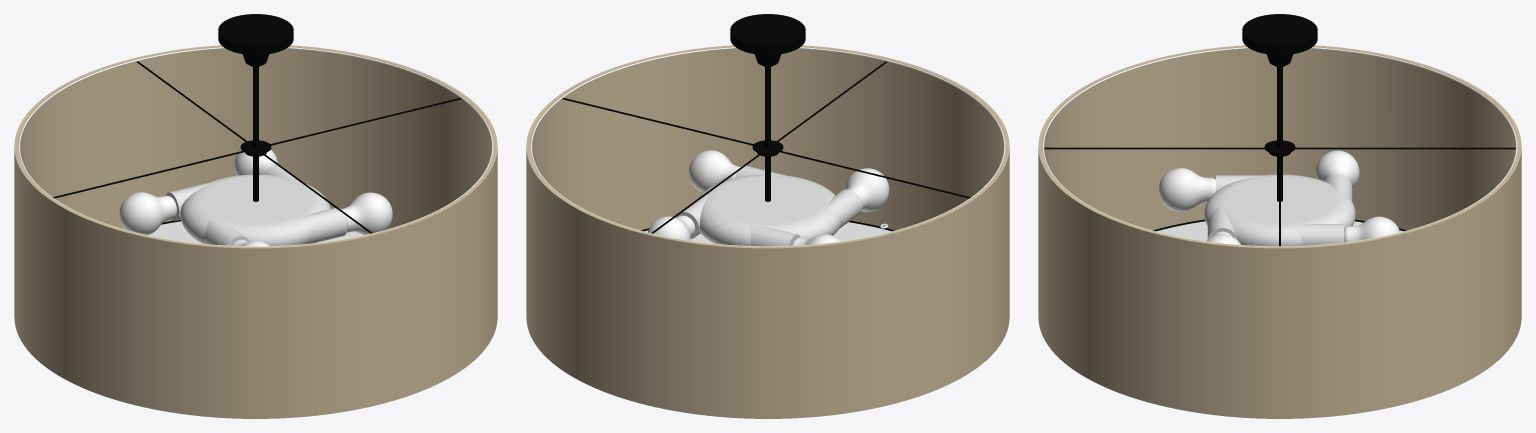
Rendered from full_moon_4bulb_ceiling_light-wn_001756wn.glb.
3 renders of one model, left to right at view 1: azimuth 30°, elevation 25°; view 2: azimuth 150°, elevation 25°; view 3: azimuth 270°, elevation 25°, orthographic.
Parts seen in each view (by area): view 1: material-f42ab093-970b-49b5-8ce1-9ef933a5f637, material-bdcae8da-0c1b-40cb-a613-6fab27915799, material-a32b117e-e1a0-4b37-9f29-6b4c4e5800f4 (×4), material-adad721f-92b3-4d38-b127-bce52402b2c0 (×3), material-a0000000-0000-0000-0000-000000000000, material-f01d2227-2fd3-4a8a-9405-0650990cf854; view 2: material-f42ab093-970b-49b5-8ce1-9ef933a5f637, material-bdcae8da-0c1b-40cb-a613-6fab27915799, material-a32b117e-e1a0-4b37-9f29-6b4c4e5800f4 (×4), material-adad721f-92b3-4d38-b127-bce52402b2c0 (×3), material-a0000000-0000-0000-0000-000000000000, material-f01d2227-2fd3-4a8a-9405-0650990cf854; view 3: material-f42ab093-970b-49b5-8ce1-9ef933a5f637, material-bdcae8da-0c1b-40cb-a613-6fab27915799, material-a32b117e-e1a0-4b37-9f29-6b4c4e5800f4 (×3), material-adad721f-92b3-4d38-b127-bce52402b2c0 (×3), material-a0000000-0000-0000-0000-000000000000, material-f01d2227-2fd3-4a8a-9405-0650990cf854.
Part boxes in pixels (box(x1,y1,x2,y2)): material-f42ab093-970b-49b5-8ce1-9ef933a5f637: box(14, 45, 497, 418); material-bdcae8da-0c1b-40cb-a613-6fab27915799: box(165, 165, 347, 245); material-a32b117e-e1a0-4b37-9f29-6b4c4e5800f4 (×4): box(53, 14, 461, 233); material-adad721f-92b3-4d38-b127-bce52402b2c0 (×3): box(119, 150, 392, 234); material-a0000000-0000-0000-0000-000000000000: box(18, 47, 493, 246); material-f01d2227-2fd3-4a8a-9405-0650990cf854: box(148, 221, 363, 243); material-f42ab093-970b-49b5-8ce1-9ef933a5f637: box(526, 45, 1009, 418); material-bdcae8da-0c1b-40cb-a613-6fab27915799: box(675, 165, 862, 246); material-a32b117e-e1a0-4b37-9f29-6b4c4e5800f4 (×4): box(562, 14, 970, 233); material-adad721f-92b3-4d38-b127-bce52402b2c0 (×3): box(648, 150, 889, 240); material-a0000000-0000-0000-0000-000000000000: box(530, 47, 1005, 246); material-f01d2227-2fd3-4a8a-9405-0650990cf854: box(644, 222, 891, 243); material-f42ab093-970b-49b5-8ce1-9ef933a5f637: box(1038, 45, 1521, 418); material-bdcae8da-0c1b-40cb-a613-6fab27915799: box(1204, 174, 1355, 246); material-a32b117e-e1a0-4b37-9f29-6b4c4e5800f4 (×3): box(1044, 14, 1515, 201); material-adad721f-92b3-4d38-b127-bce52402b2c0 (×3): box(1158, 150, 1399, 242); material-a0000000-0000-0000-0000-000000000000: box(1042, 47, 1517, 246); material-f01d2227-2fd3-4a8a-9405-0650990cf854: box(1156, 221, 1403, 241).
Bounding box in the file's own units: 58 × 38 × 58.
